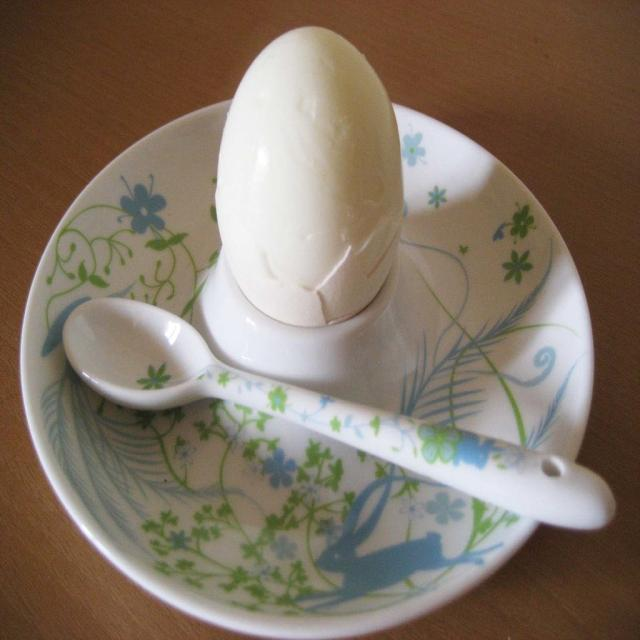Egg: (212, 24, 405, 329)
